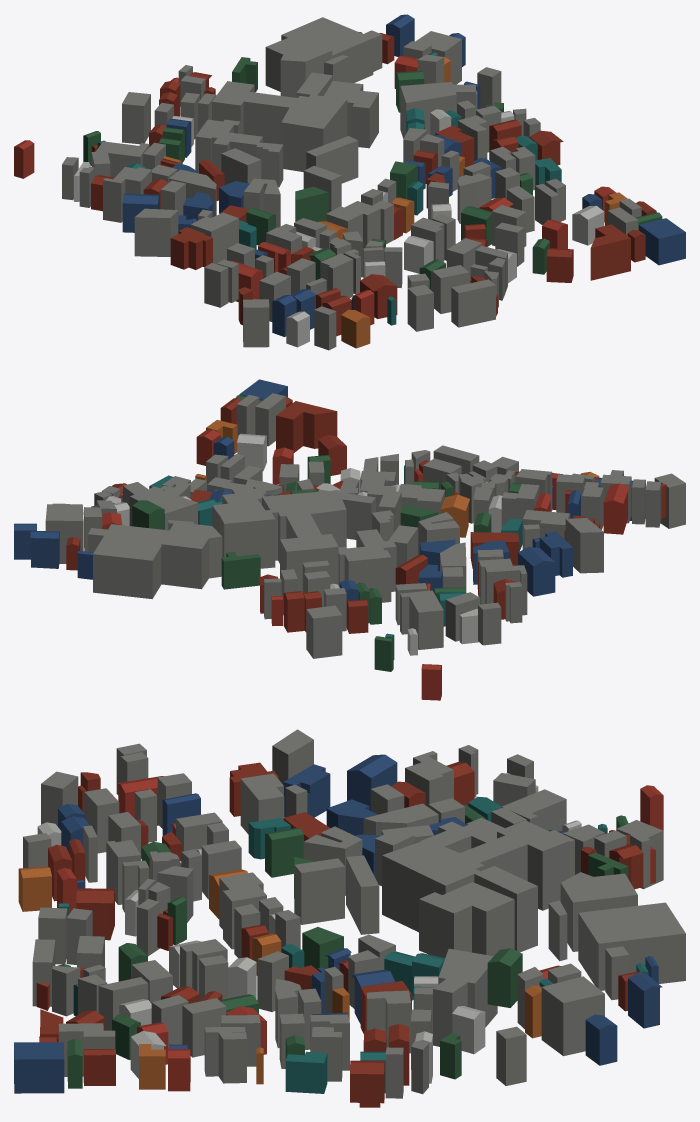
File: near-17-109440-59476.7b666516.glb
3 renders of one model, top to bottom at view 1: azimuth 30°, elevation 25°; view 2: azimuth 150°, elevation 25°; view 3: azimuth 270°, elevation 25°, orthographic. The views are drawn at different scales.
Bounding box in the file's own units: 311 × 68.52 × 313.
